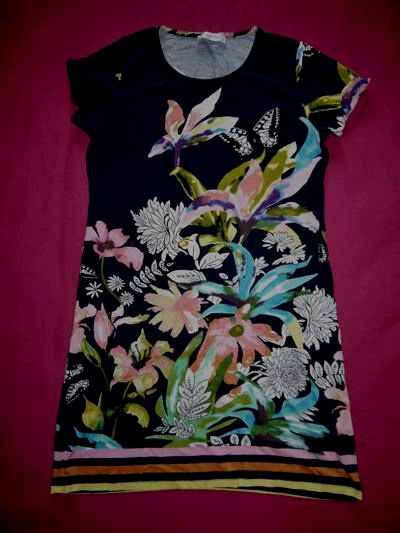Dress: (35, 15, 378, 509)
